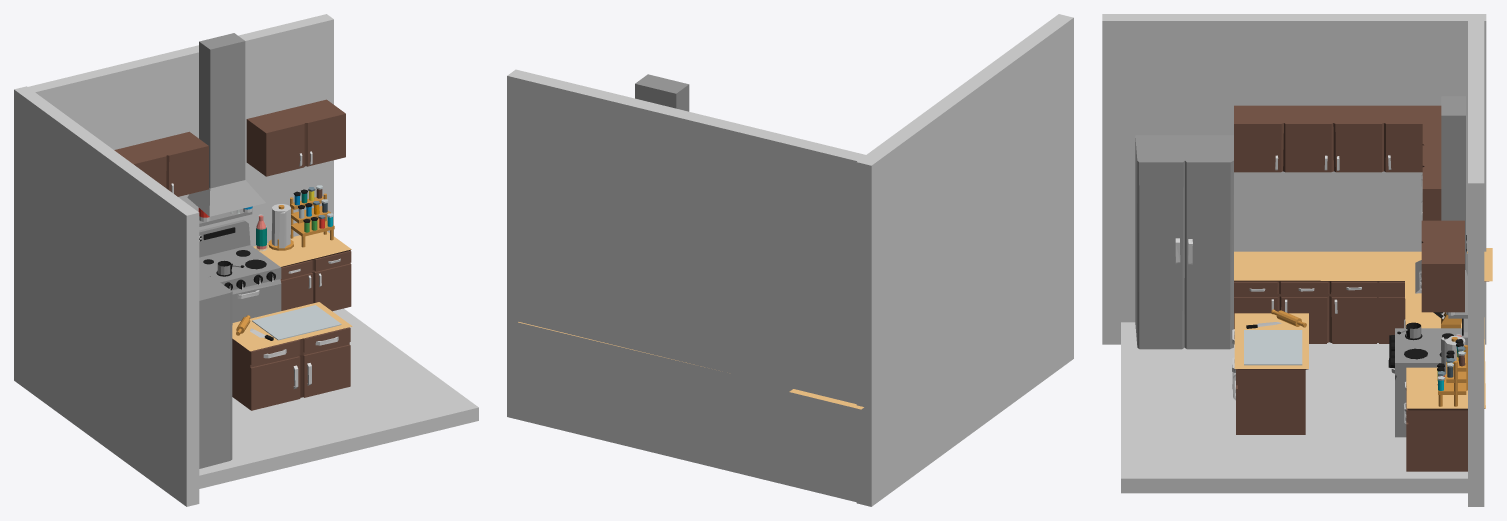
The model's file is scene_0d0js3CxsU.glb.
3 renders of one model, left to right at view 1: azimuth 30°, elevation 25°; view 2: azimuth 150°, elevation 25°; view 3: azimuth 270°, elevation 25°, orthographic. The views are drawn at different scales.
Visible parts, largest first — view 1: group9585808, group1810159463, group107145946, group1348253054, group1000109285, group536980032, group384672652, group1142142446, group900006215, group1955243732, group1999118543, group1802843172; view 2: group1810159463, group9585808, group1000109285; view 3: group9585808, group107145946, group536980032, group1913738476, group2142097961, group1810159463, group1142142446, group1348253054, group384672652, group1000109285, group900006215, group1999118543 (+1 smaller).
Boxes of the visible parts, box(x1,y1,x2,y2) form: group9585808: box(14, 86, 199, 506); group1810159463: box(28, 14, 333, 246); group107145946: box(199, 308, 478, 488); group1348253054: box(232, 302, 352, 410); group1000109285: box(187, 33, 265, 216); group536980032: box(199, 267, 232, 468); group384672652: box(246, 99, 345, 176); group1142142446: box(253, 231, 351, 311); group900006215: box(199, 219, 281, 322); group1955243732: box(114, 131, 208, 196); group1999118543: box(252, 305, 341, 340); group1802843172: box(268, 204, 293, 250); group1810159463: box(507, 69, 865, 502); group9585808: box(856, 14, 1073, 506); group1000109285: box(635, 74, 689, 111); group9585808: box(1102, 14, 1486, 344); group107145946: box(1121, 322, 1467, 493); group536980032: box(1135, 135, 1233, 349); group1913738476: box(1234, 248, 1492, 343); group2142097961: box(1234, 105, 1441, 172); group1810159463: box(1468, 21, 1484, 506); group1142142446: box(1404, 273, 1485, 471); group1348253054: box(1234, 313, 1308, 434); group384672652: box(1421, 220, 1464, 312); group1000109285: box(1415, 96, 1467, 293); group900006215: box(1395, 318, 1467, 437); group1999118543: box(1244, 330, 1302, 365).
Bounding box in the file's own units: 1.95 × 1.81 × 1.9.
